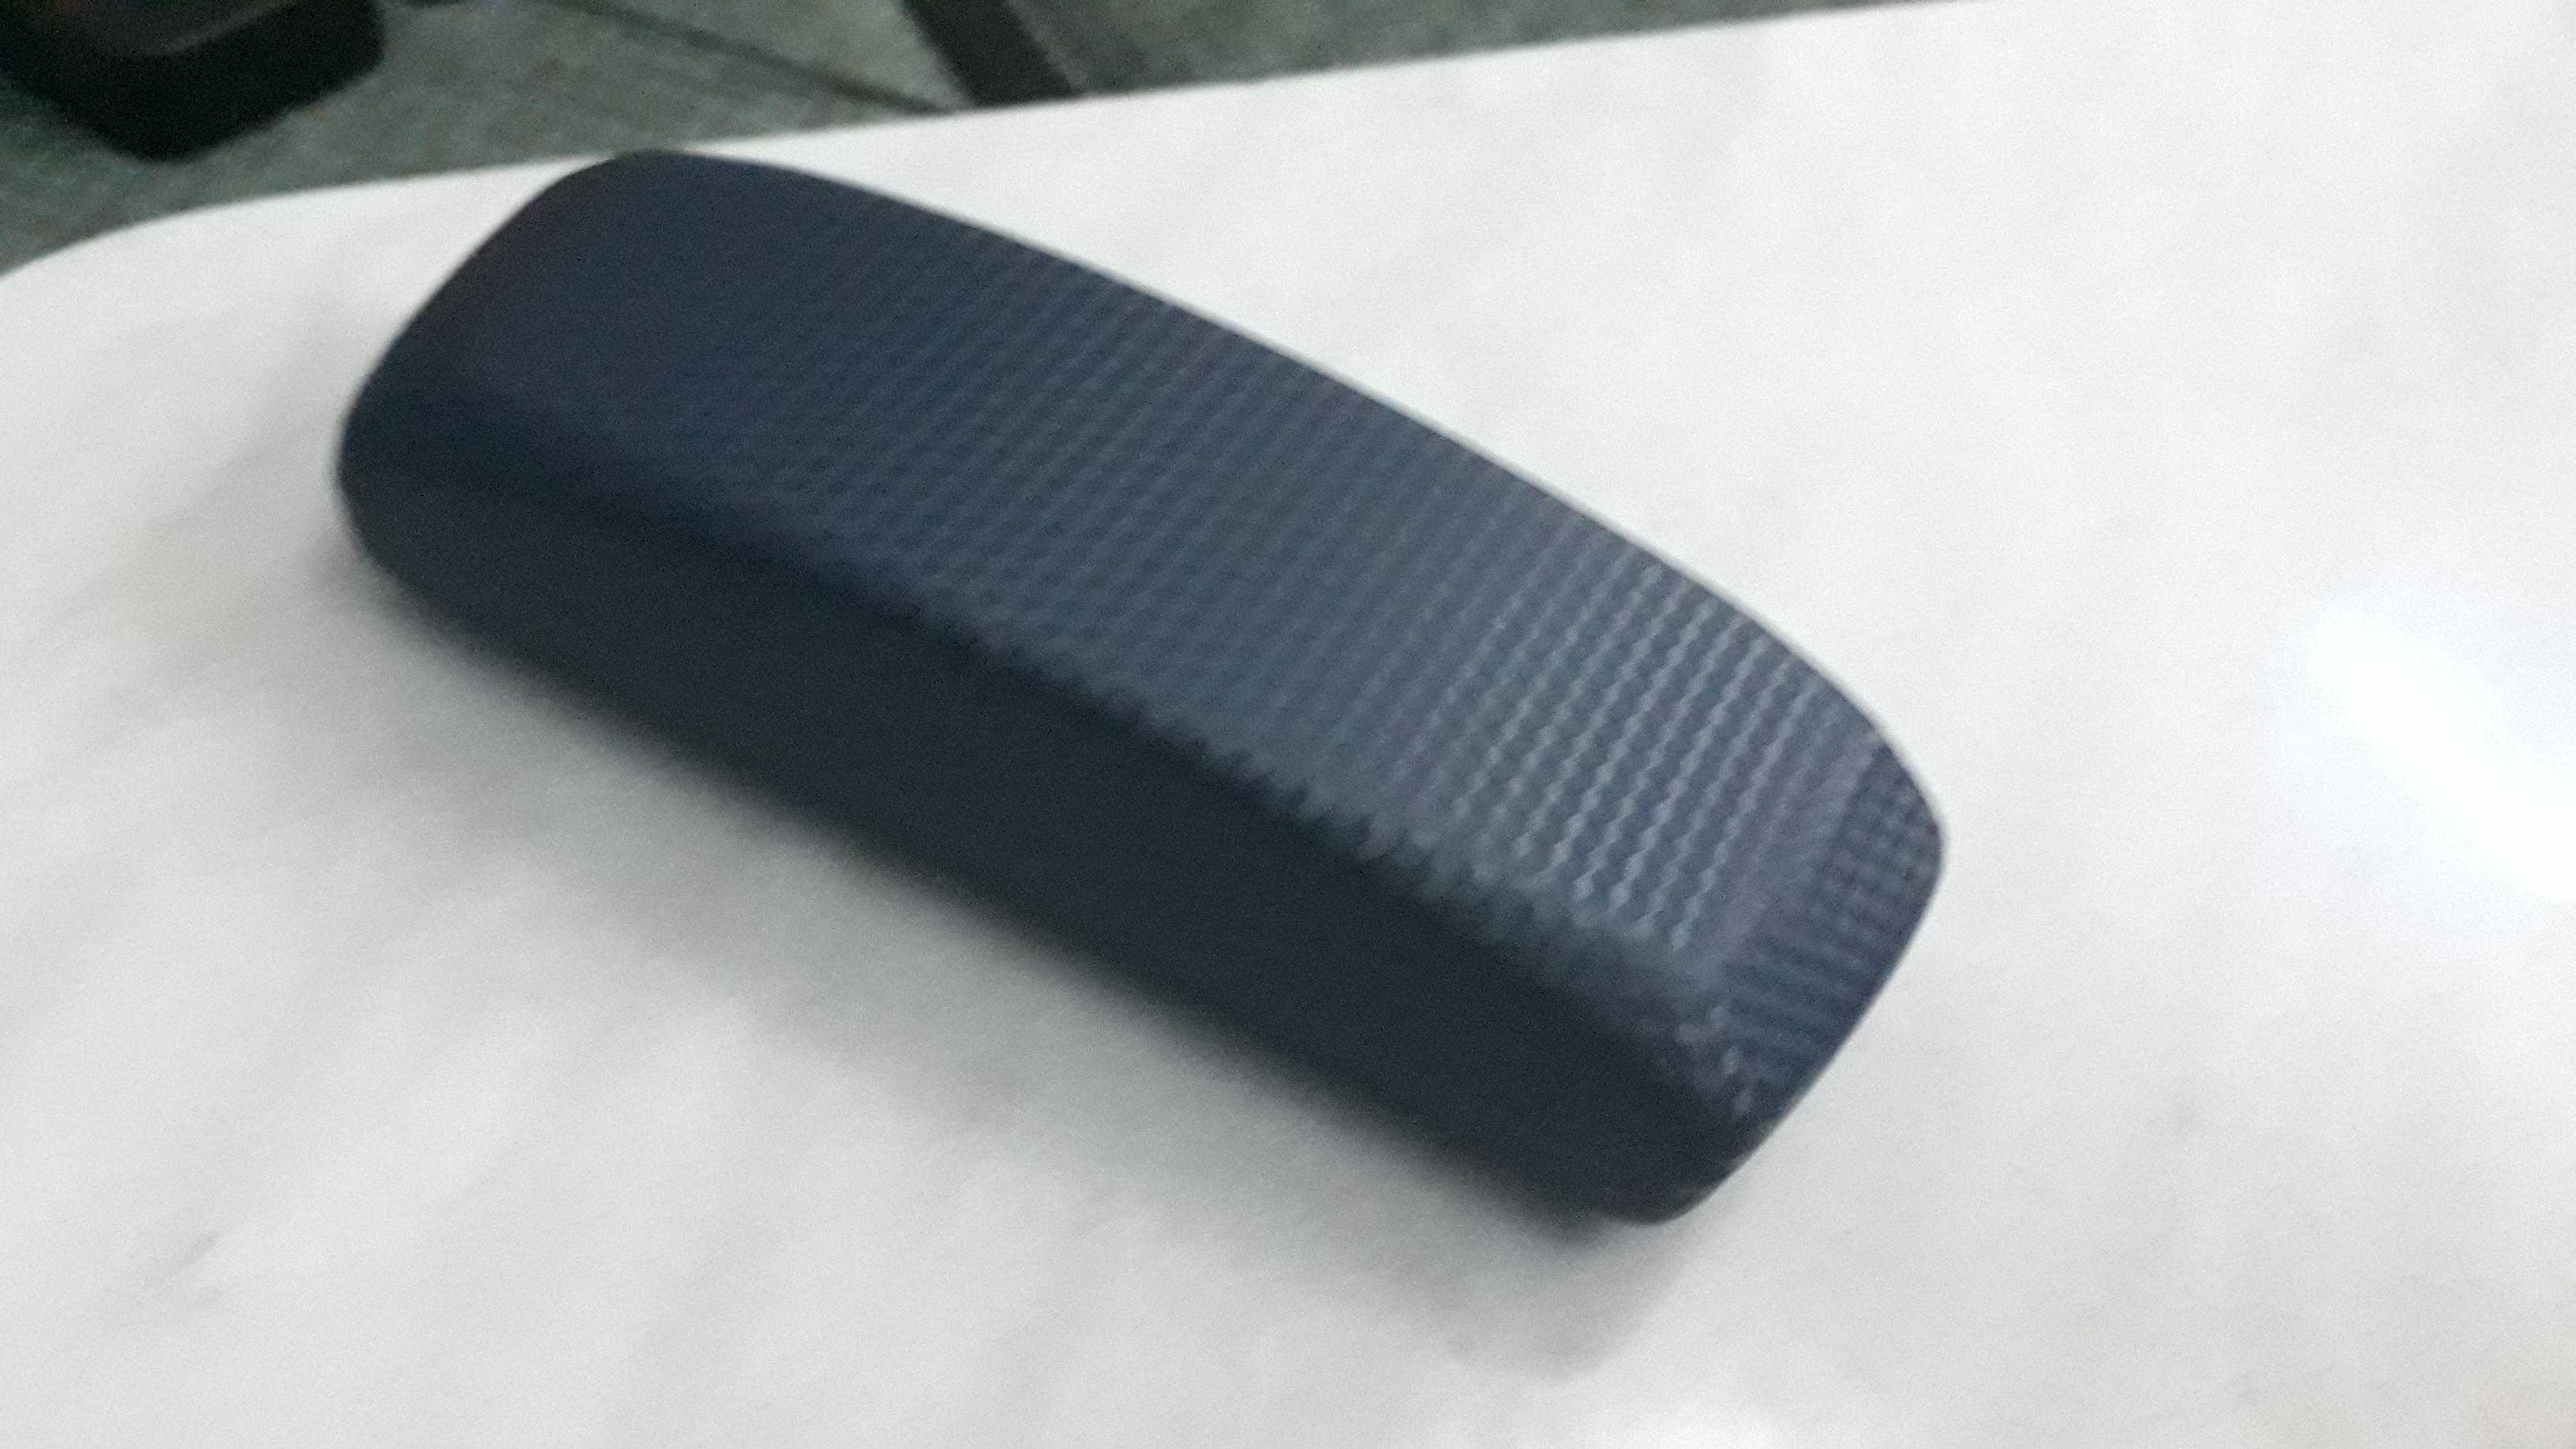nadar: (320, 67, 1957, 1292)
